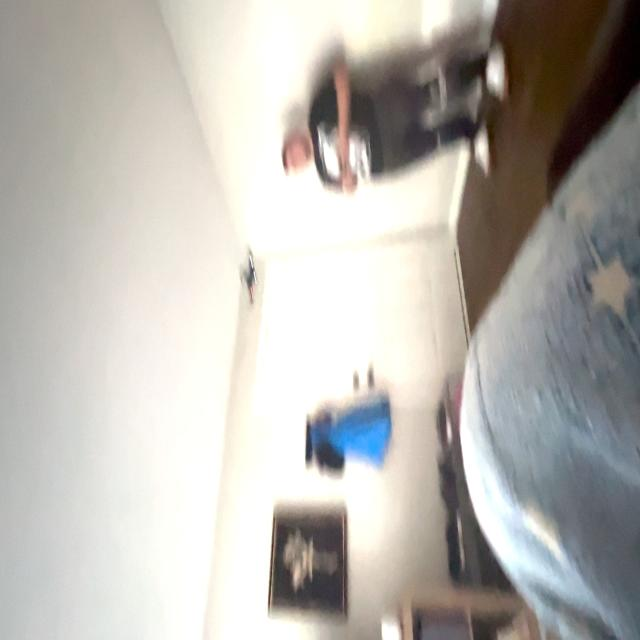drone: (228, 235, 266, 312)
